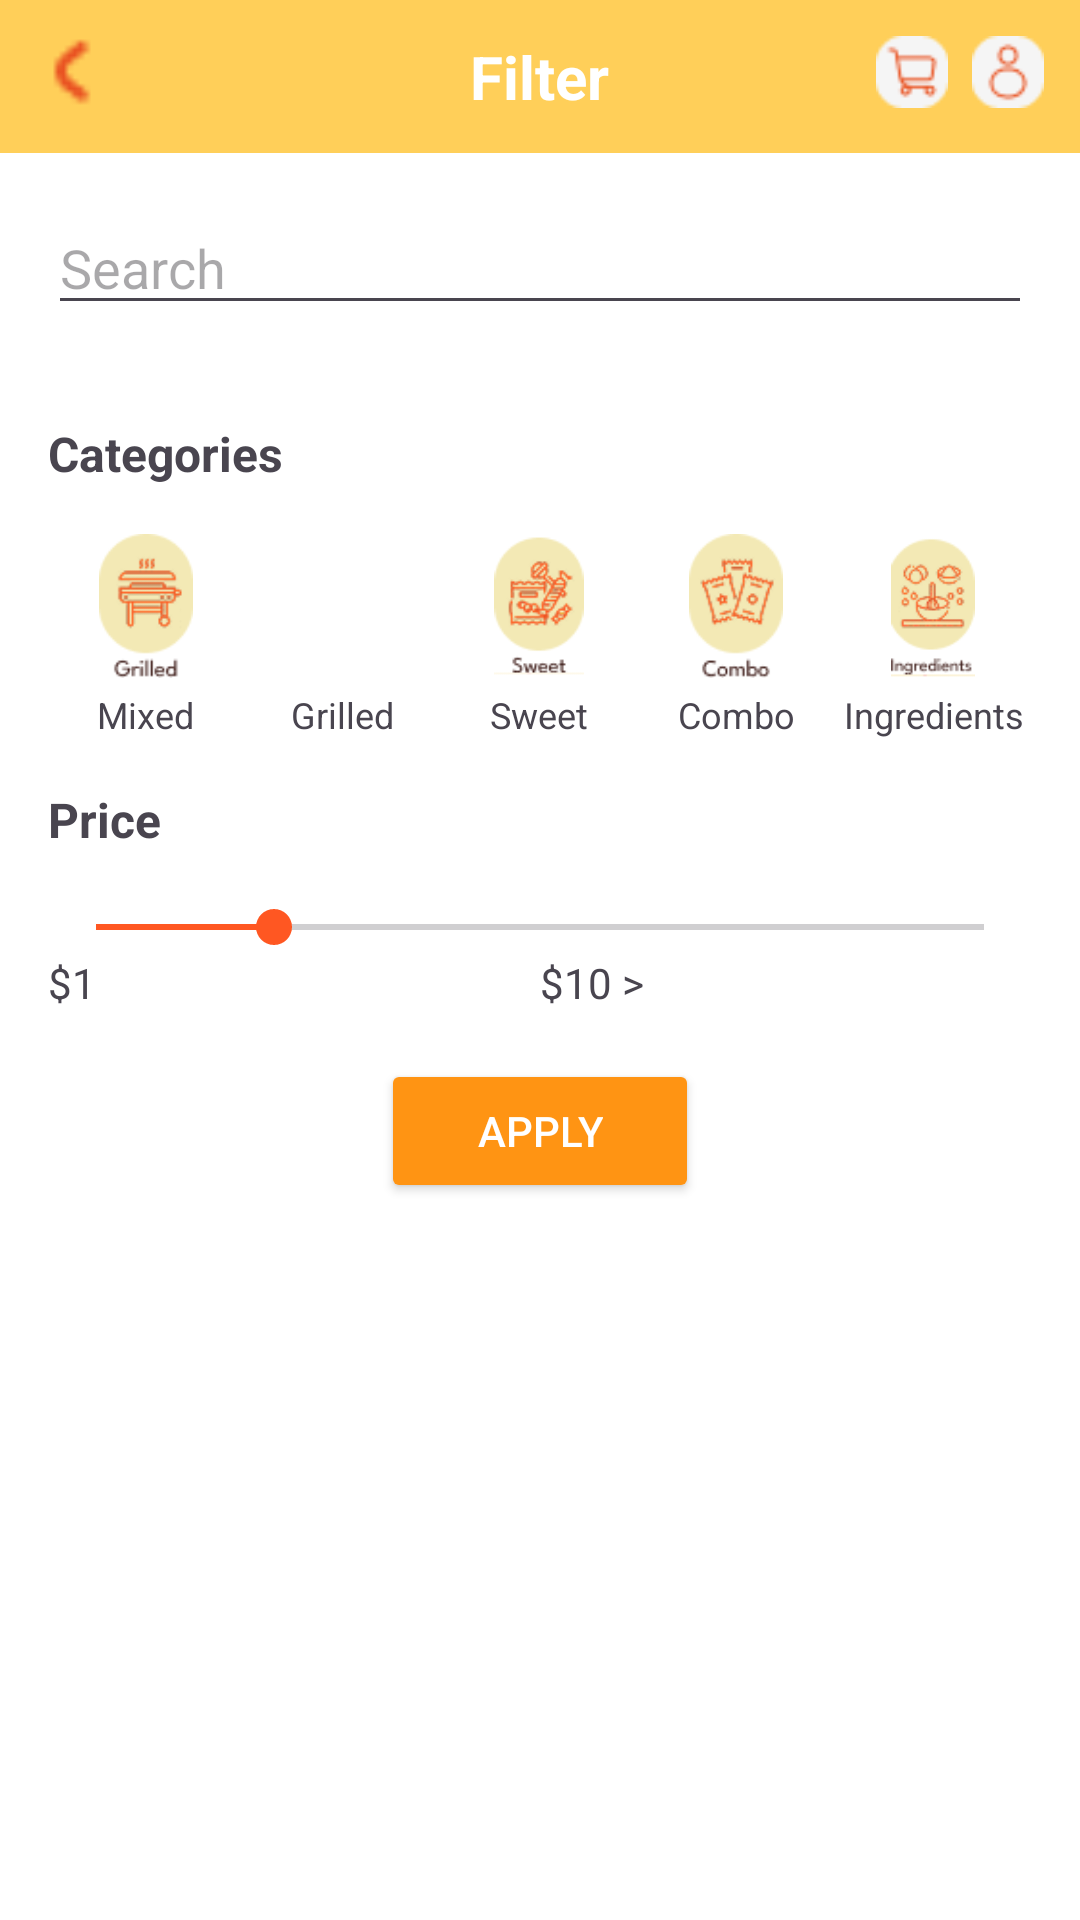

Where icons sit on this 1080px×1920px app screen, as (x1, y1, x2, y2):
back: (54, 40, 90, 103)
cart: (876, 36, 948, 108)
user: (972, 36, 1044, 108)
